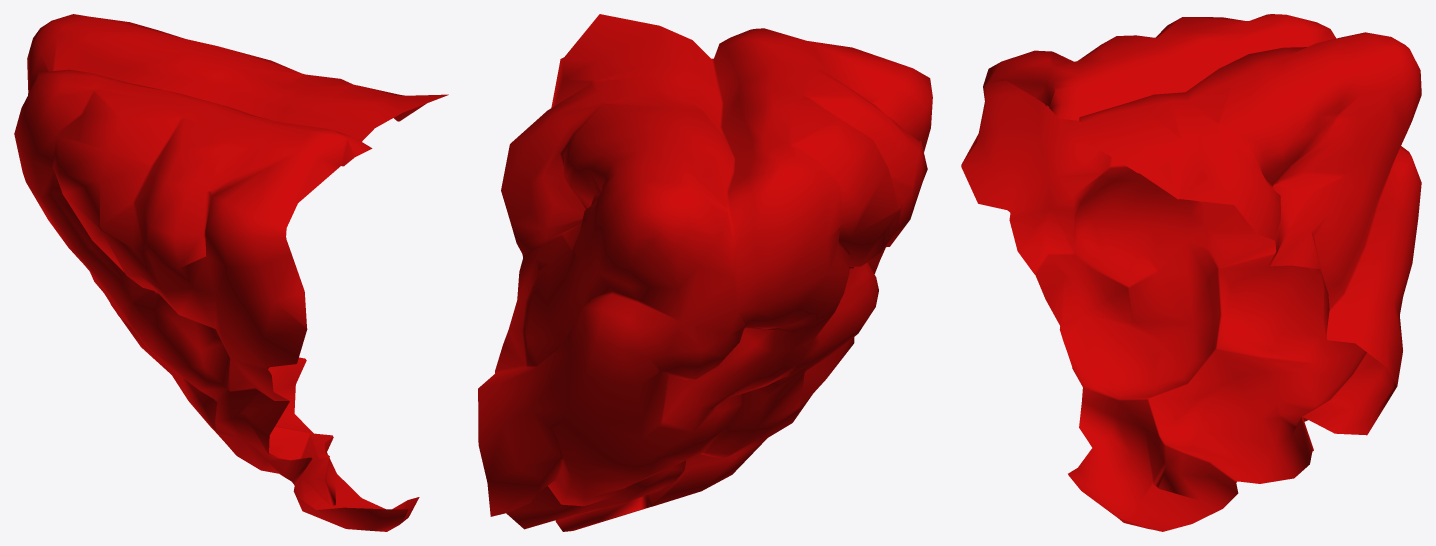
The model's file is region_10.obj.
3 views of the same model, side by side, from view 1: azimuth 30°, elevation 25°; view 2: azimuth 150°, elevation 25°; view 3: azimuth 270°, elevation 25° (orthographic). The views are drawn at different scales.
Parts seen in each view (by area): view 1: ID93; view 2: ID93; view 3: ID93.
Boxes of the visible parts, x1,y1,x2,y2 form: ID93: [14, 14, 448, 531]; ID93: [478, 14, 932, 531]; ID93: [961, 14, 1421, 531].
Size of the model in its own units: 57.14 by 75.56 by 76.88.
